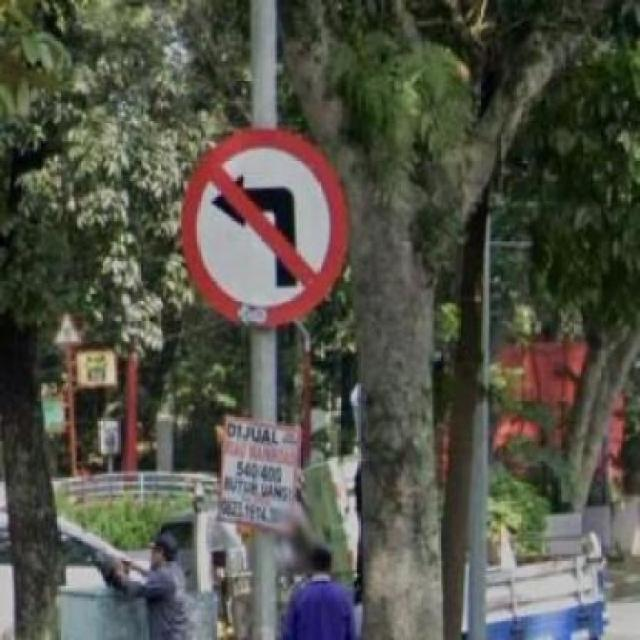left turn prohibited: (180, 129, 350, 322)
